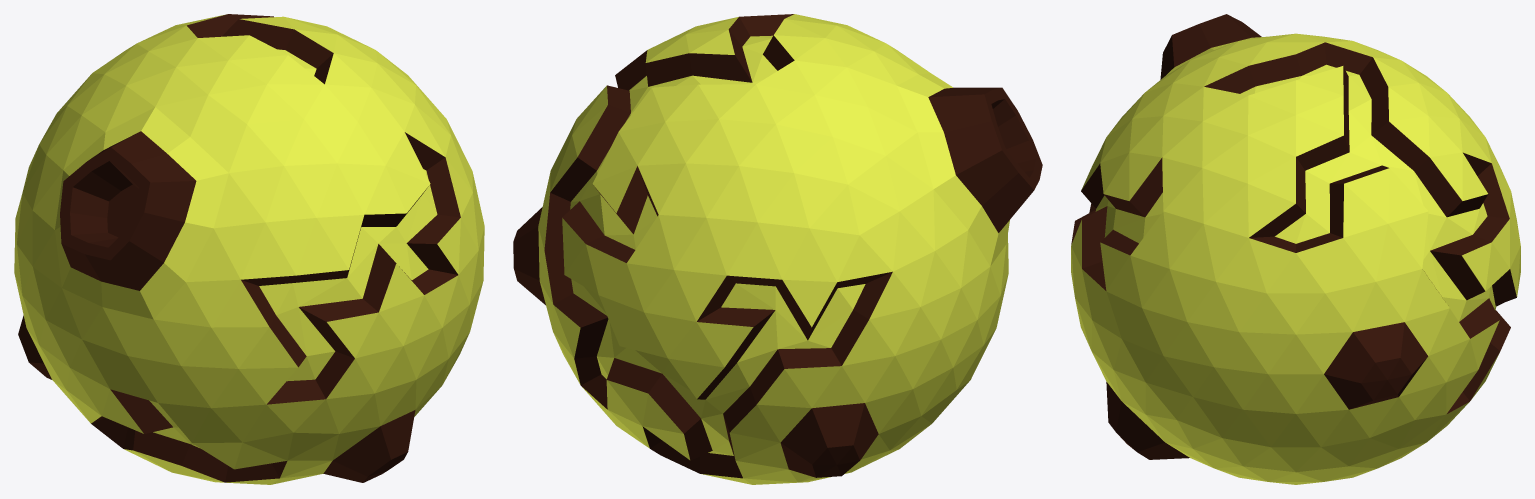
The model's file is test_desert.FBX.
The picture shows the model from 3 angles, left to right: view 1: azimuth 30°, elevation 25°; view 2: azimuth 150°, elevation 25°; view 3: azimuth 270°, elevation 25°; orthographic projection. The views are drawn at different scales.
Parts seen in each view (by area): view 1: GeoSphere001; view 2: GeoSphere001; view 3: GeoSphere001.
Part boxes in pixels (x1,y1,x2,y2): GeoSphere001: (14,14,484,484); GeoSphere001: (513,14,1042,484); GeoSphere001: (1071,14,1520,484).
Bounding box in the file's own units: 129 × 120 × 119.
